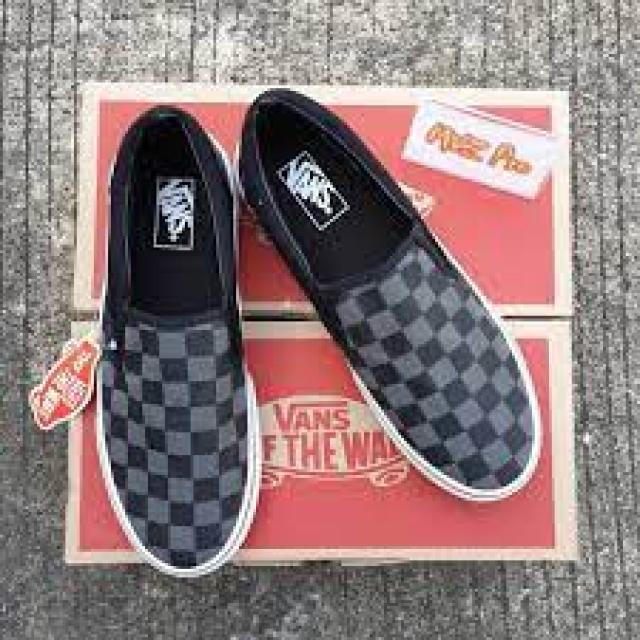shoe: (90, 90, 540, 580), (236, 76, 544, 512), (96, 101, 266, 590)
